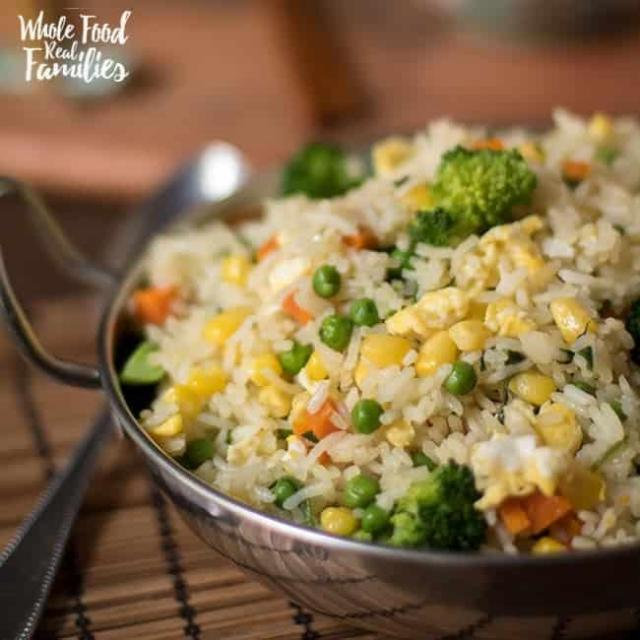Nasi Goreng: (125, 111, 638, 554)
